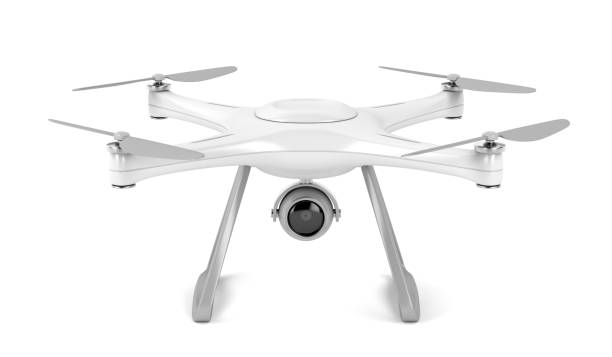Drone: (45, 57, 572, 327)
